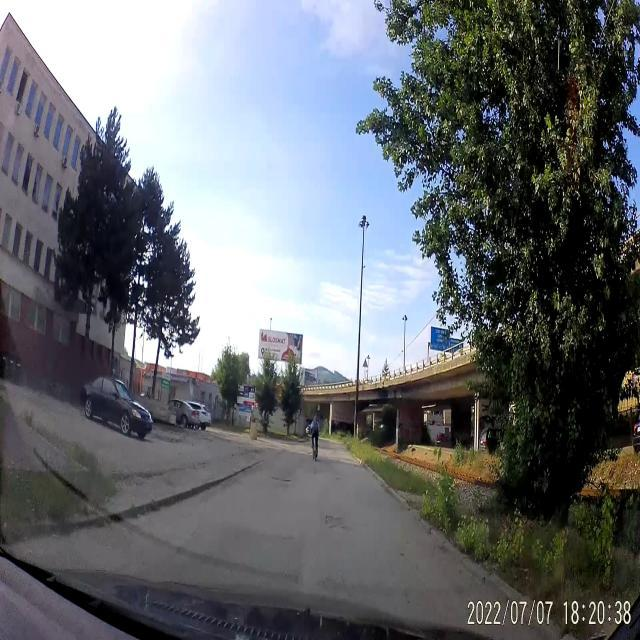Pothole: (318, 504, 352, 534), (272, 472, 294, 488)
